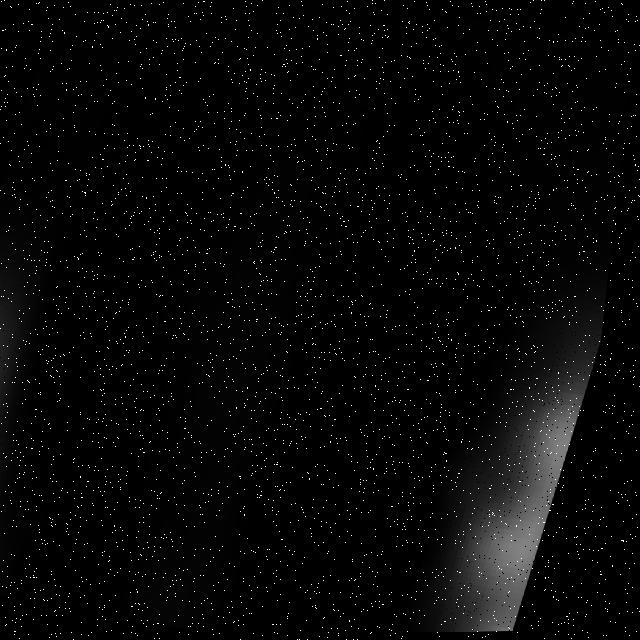person: (365, 224, 621, 636), (1, 176, 186, 608)
